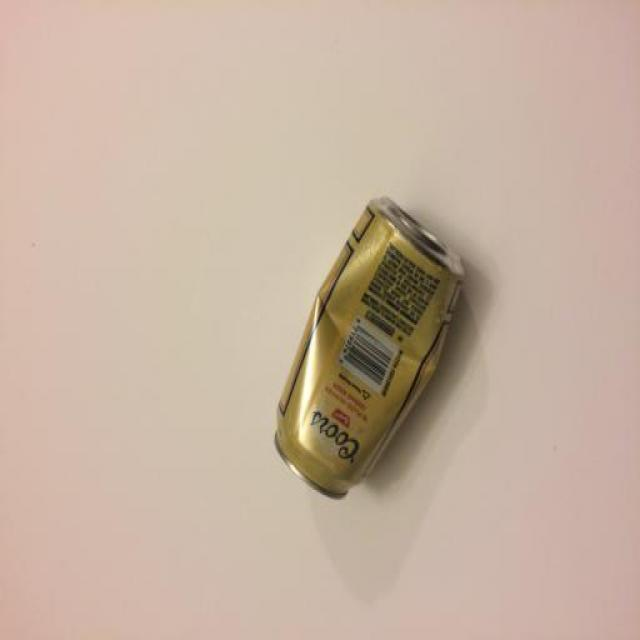metel: (266, 169, 491, 521)
